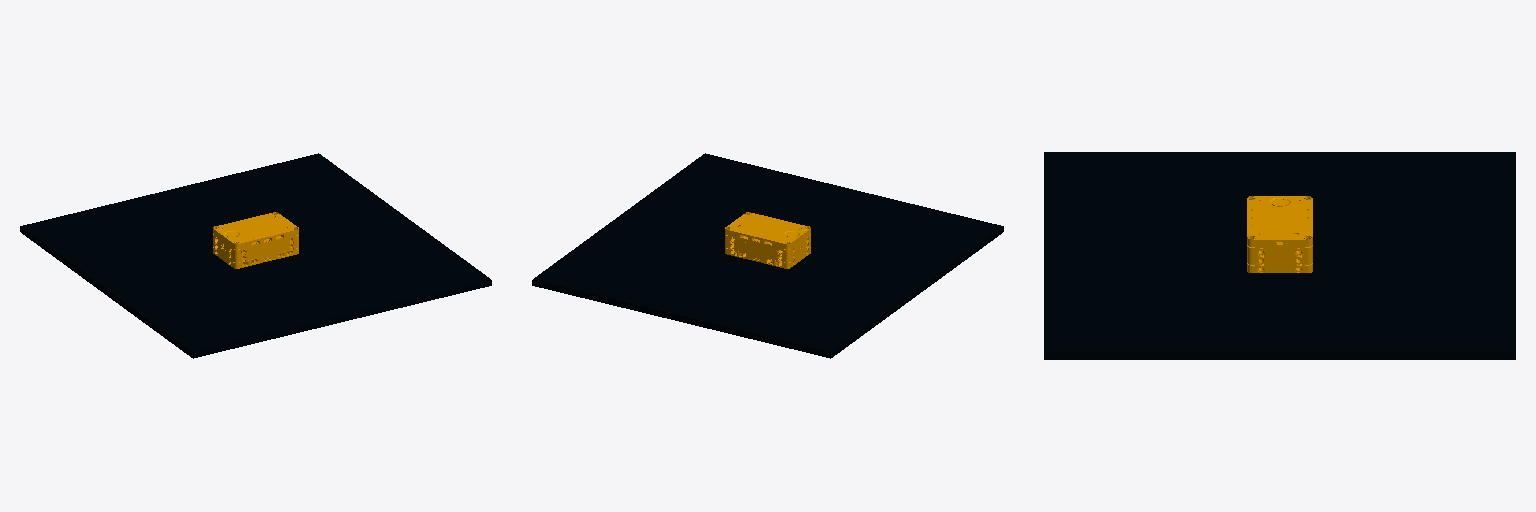
robot.urdf — robot_simple_imu:
<?xml version="1.0"?>
<!--
  Robot: robot_simple_imu
  Generated by: LinkForge v1.3.4
  https://github.com/arounamounchili/linkforge
  Date: 2026-05-26 16:34:21
-->
<robot name="robot_simple_imu">
  <!-- Materials -->
  <material name="_0_001">
    <color rgba="0.01281 0.048622 0.075361 0.5" />
  </material>
  <!-- Links -->
  <link name="hub">
    <inertial>
      <mass value="0.1498" />
      <inertia ixx="0.0003996651" ixy="-7.764129e-08" ixz="-3.0062797e-06" iyy="0.0007836248" iyz="-1.4107684e-08" izz="0.0010106043" />
    </inertial>
    <visual>
      <origin xyz="0 0 0.04" rpy="0 0 0" />
      <geometry>
        <mesh filename="meshes/prime_hub_visual.obj" />
      </geometry>
    </visual>
  </link>
  <link name="world">
    <inertial>
      <mass value="100" />
      <inertia ixx="8.336667" ixy="0" ixz="0" iyy="8.336667" iyz="0" izz="16.666667" />
    </inertial>
    <visual>
      <origin xyz="0 0 -0.01" rpy="0 0 0" />
      <geometry>
        <box size="1 1 0.02" />
      </geometry>
      <material name="_0_001" />
    </visual>
  </link>
  <!-- Joints -->
  <joint name="hub_joint" type="floating">
    <parent link="world" />
    <child link="hub" />
  </joint>
</robot>

--- Render facts (derived) ---
Views: 3 orthographic renders of the robot side by side, from view 1: azimuth 30°, elevation 25°; view 2: azimuth 150°, elevation 25°; view 3: azimuth 270°, elevation 25°.
Robot: robot_simple_imu — 2 links, 1 joints (1 floating); root link world; default pose: all joints at 0.
Visible links, largest first — view 1: world, hub; view 2: world, hub; view 3: world, hub.
Link boxes in pixels (x1,y1,x2,y2): world: (20, 153, 491, 358); hub: (213, 212, 298, 268); world: (532, 153, 1003, 358); hub: (725, 212, 810, 268); world: (1044, 152, 1515, 359); hub: (1247, 196, 1312, 272).
Size in the robot's own frame: 1 by 1 by 0.1 metres.
Meshes: 1 distinct files referenced, 1 mesh visuals loaded (1 OBJ).
